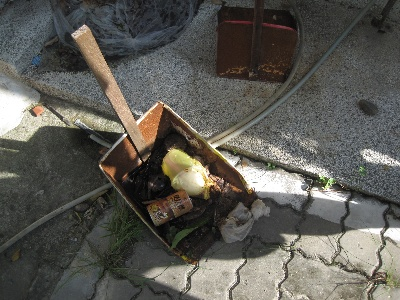bottle: (147, 191, 193, 227)
